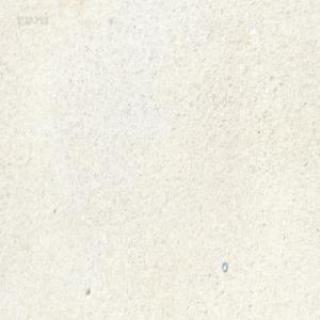Washertrack_idkeyframe: (220, 260, 227, 271)
